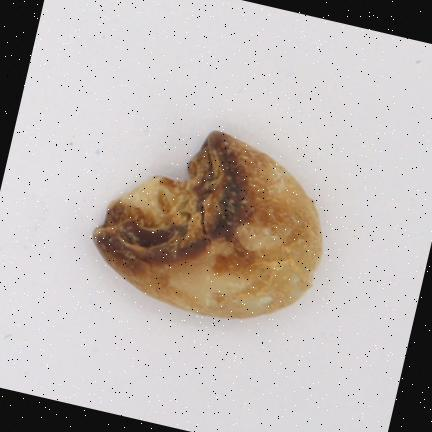cut: (93, 133, 322, 318)
